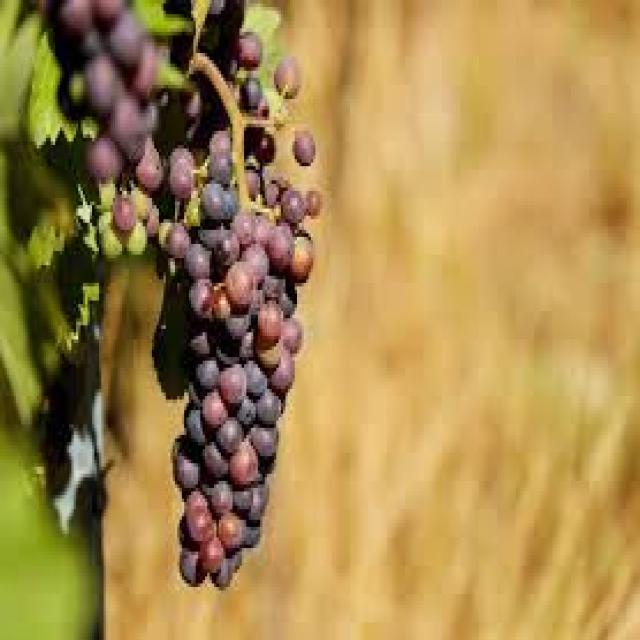Grapes: (267, 219, 312, 284), (182, 336, 228, 394), (232, 485, 265, 545), (222, 318, 260, 370), (258, 343, 296, 393), (242, 151, 274, 206), (269, 183, 306, 227), (188, 277, 222, 324), (233, 33, 265, 75), (242, 236, 268, 285), (213, 137, 236, 187), (211, 232, 242, 269), (178, 415, 213, 447), (198, 441, 229, 477), (188, 249, 219, 285), (223, 364, 249, 405), (198, 392, 227, 428), (171, 448, 197, 488), (278, 60, 300, 106), (215, 509, 242, 546), (236, 455, 262, 493), (202, 188, 230, 223), (256, 308, 286, 340), (189, 504, 213, 543), (162, 233, 190, 266), (175, 162, 199, 200), (256, 393, 283, 426), (298, 131, 319, 168), (203, 542, 226, 574), (183, 548, 204, 581), (244, 80, 265, 111), (208, 486, 234, 511), (220, 420, 242, 449), (229, 280, 252, 303)
